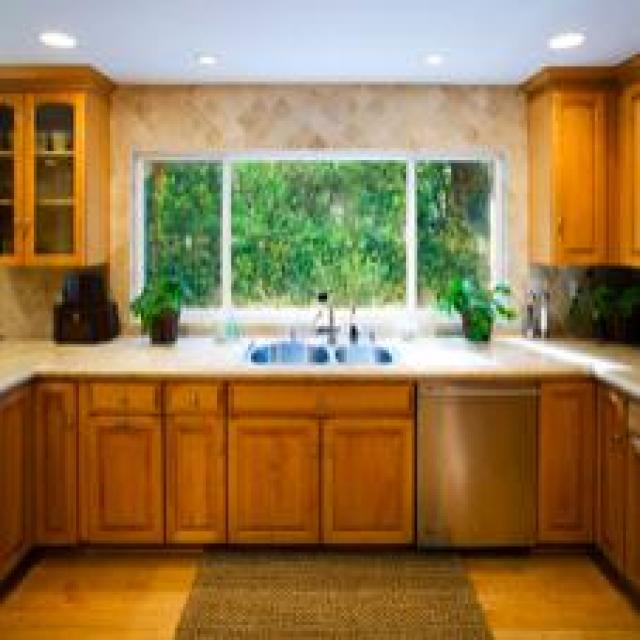dishwasher: (414, 378, 536, 546)
